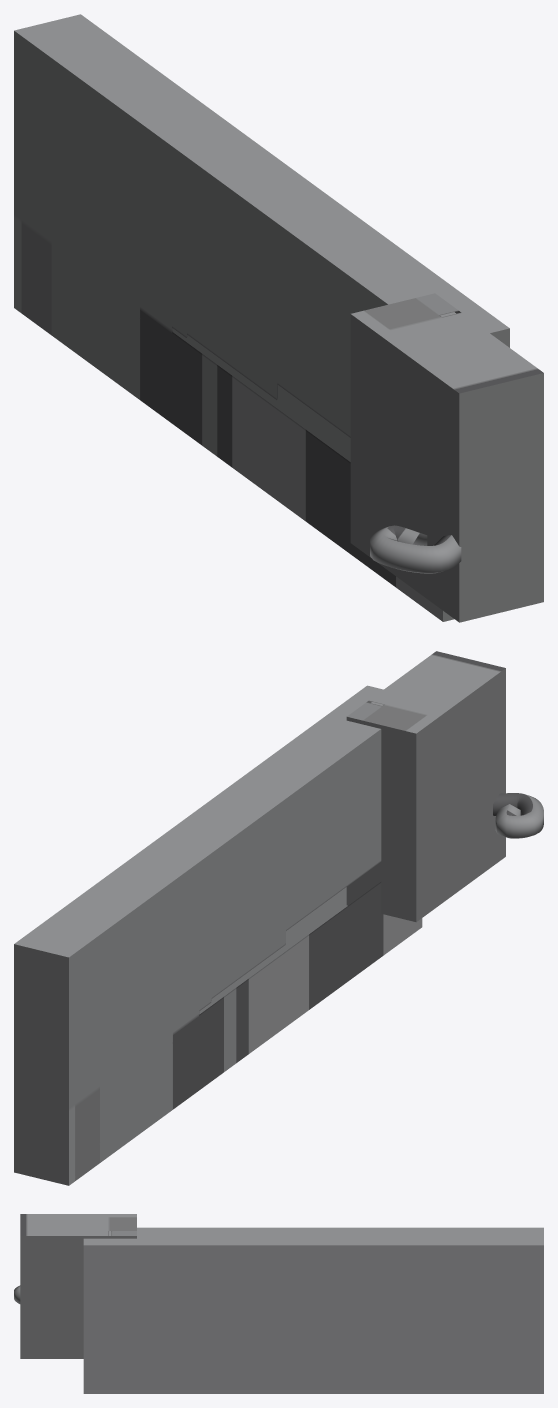
3 renders of one model, top to bottom at view 1: azimuth 30°, elevation 25°; view 2: azimuth 150°, elevation 25°; view 3: azimuth 270°, elevation 25°, orthographic. The views are drawn at different scales.
Bounding box in the file's own units: 0.4137 × 0.6456 × 2.05.
